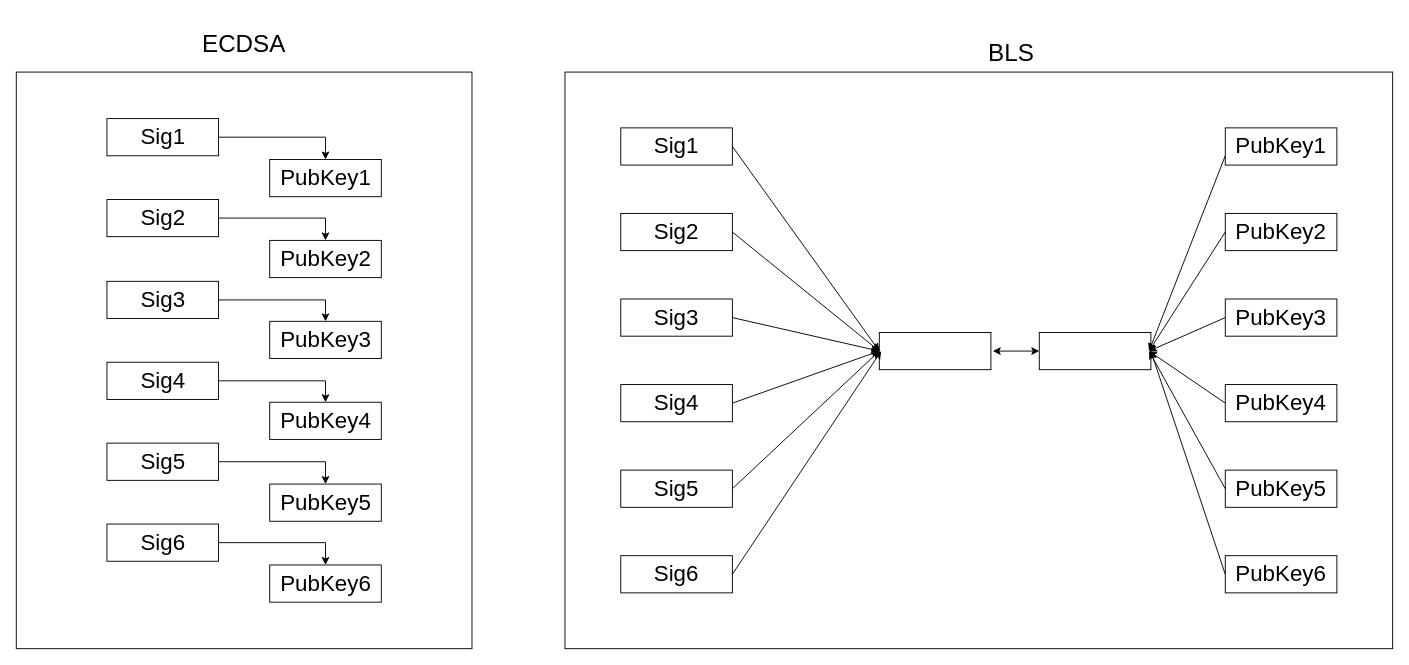
The diagram is 1409 pixels wide and 665 high, and some of its shapes have lost their labels. The shapes that lost their labels are listed below. From the top down, each one's centre as x and y in pixels, then its label:
At (x=934, y=351): "Sig1'".
At (x=1094, y=351): "PubKey1'".
